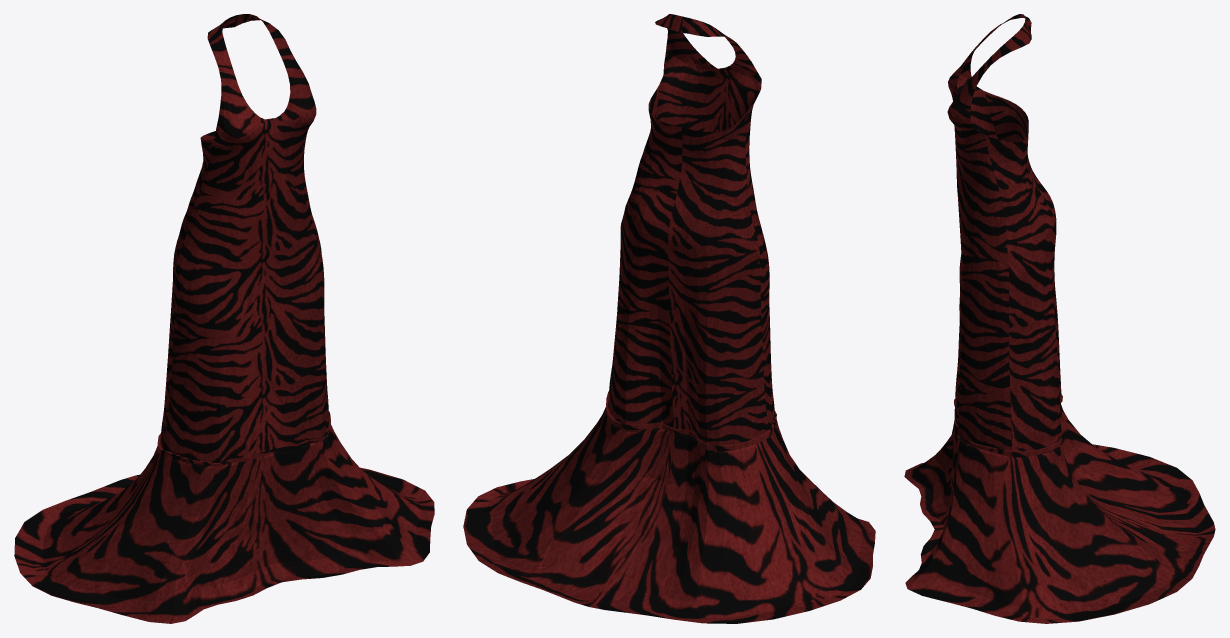
The model's file is garment.glb.
The picture shows the model from 3 angles, left to right: view 1: azimuth 30°, elevation 25°; view 2: azimuth 150°, elevation 25°; view 3: azimuth 270°, elevation 25°; orthographic projection. The views are drawn at different scales.
Visible parts, largest first — view 1: garment; view 2: garment; view 3: garment.
Part boxes in pixels (<box>): garment: <box>14,14,434,623</box>; garment: <box>463,14,875,623</box>; garment: <box>904,14,1215,623</box>.
Bounding box in the file's own units: 10.61 × 13.86 × 7.58.
Materials: 1 (1 with a texture image).
